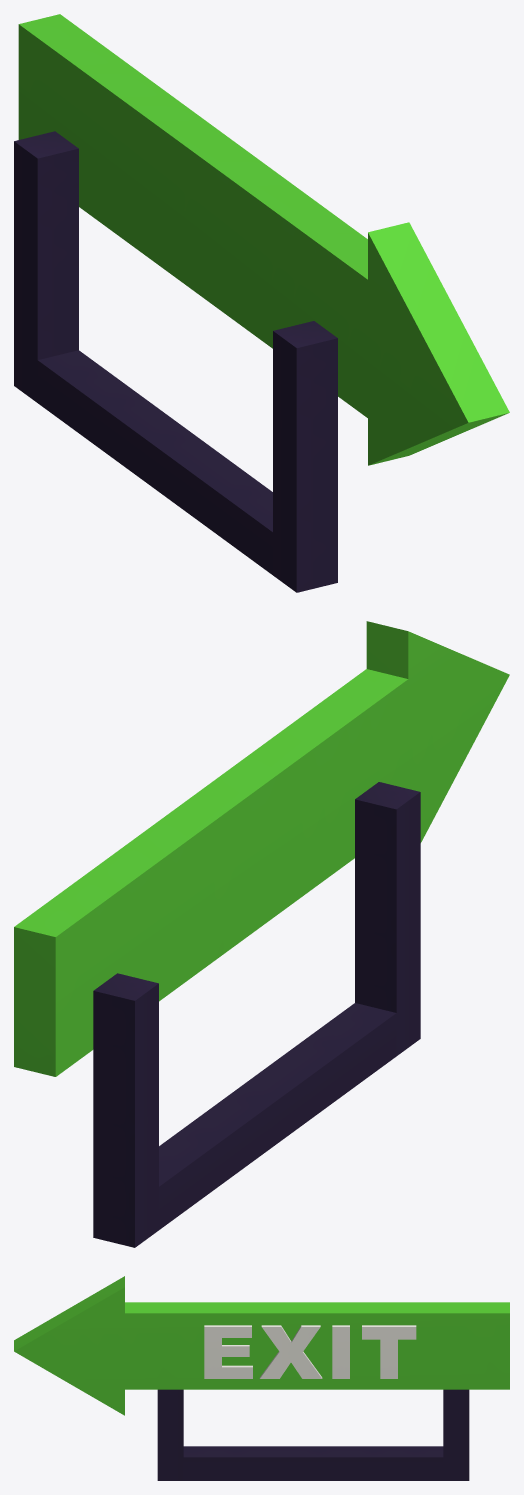
File: SignArrow_Exit.fbx
3 views of the same model, one above another, from view 1: azimuth 30°, elevation 25°; view 2: azimuth 150°, elevation 25°; view 3: azimuth 270°, elevation 25° (orthographic). The views are drawn at different scales.
Visible parts, largest first — view 1: SignArrow_Exit; view 2: SignArrow_Exit; view 3: SignArrow_Exit.
Part boxes in pixels (bbox=[...]): SignArrow_Exit: bbox=[14, 14, 509, 592]; SignArrow_Exit: bbox=[14, 621, 509, 1247]; SignArrow_Exit: bbox=[14, 1276, 509, 1480].
Bounding box in the file's own units: 45.9 × 184 × 404.
